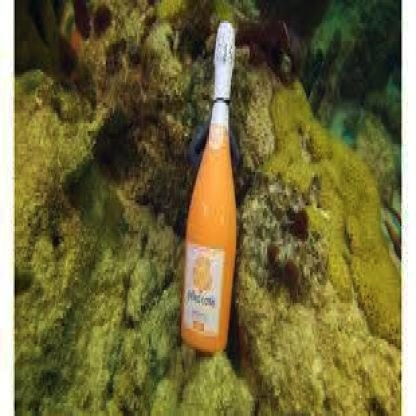gbottle: (182, 23, 238, 357)
